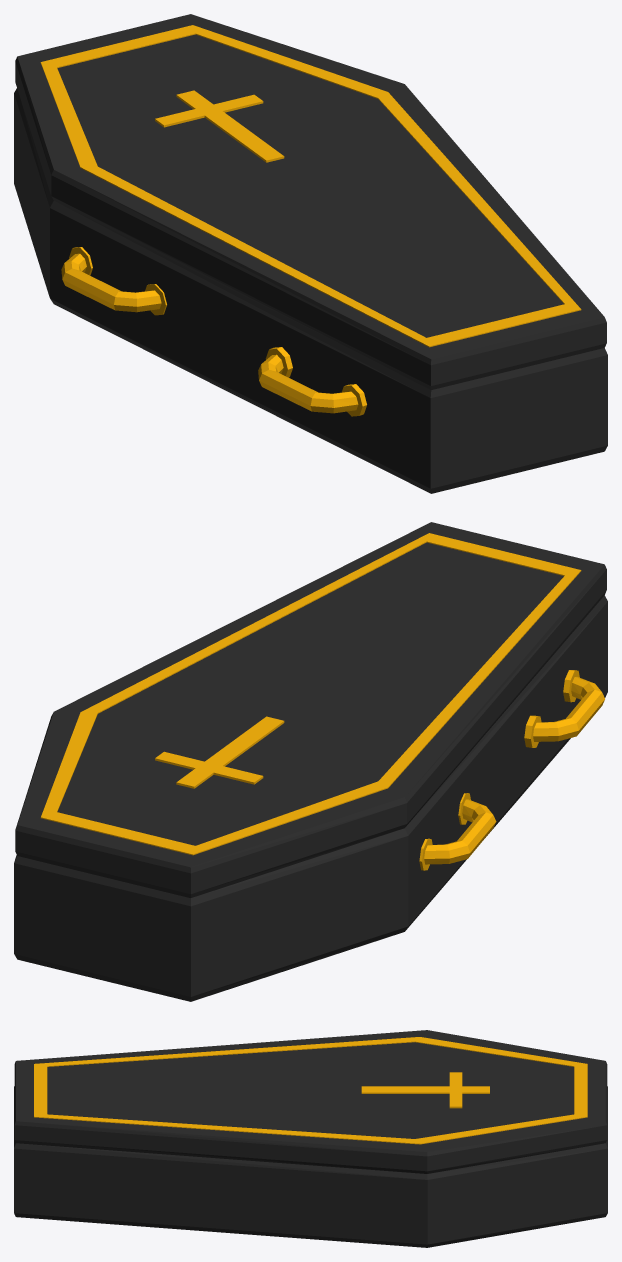
Rendered from barcoffin.fbx.
3 views of the same model, one above another, from view 1: azimuth 30°, elevation 25°; view 2: azimuth 150°, elevation 25°; view 3: azimuth 270°, elevation 25° (orthographic). The views are drawn at different scales.
Parts seen in each view (by area): view 1: node-0.001; view 2: node-0.001; view 3: node-0.001.
Boxes of the visible parts, x1,y1,x2,y2 form: node-0.001: (14, 14, 607, 493); node-0.001: (14, 522, 607, 1001); node-0.001: (14, 1030, 607, 1247).
Bounding box in the file's own units: 158 × 53.99 × 298.
